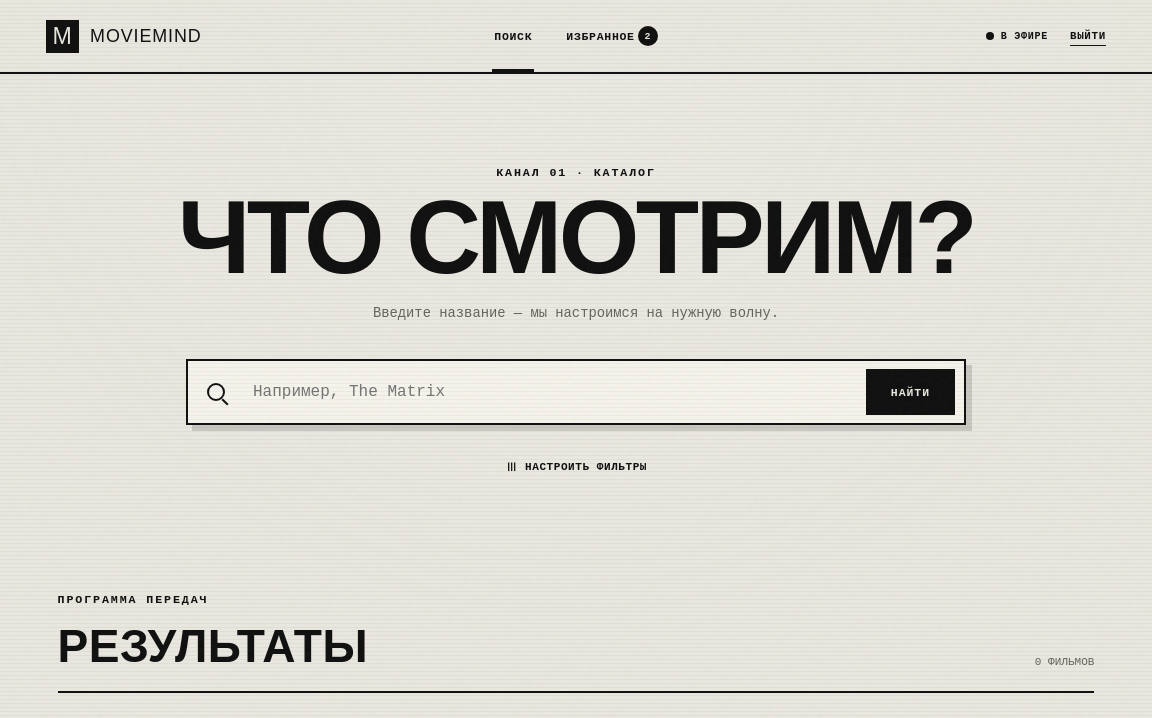
Scenario: MovieMind React application › updates favorite state from a movie card
Expected: the heading "Что смотрим?" is shown, [178,192,974,283]
In the search field named "Название фильма": point(554, 392) [243,361,866,423], type "matrix"
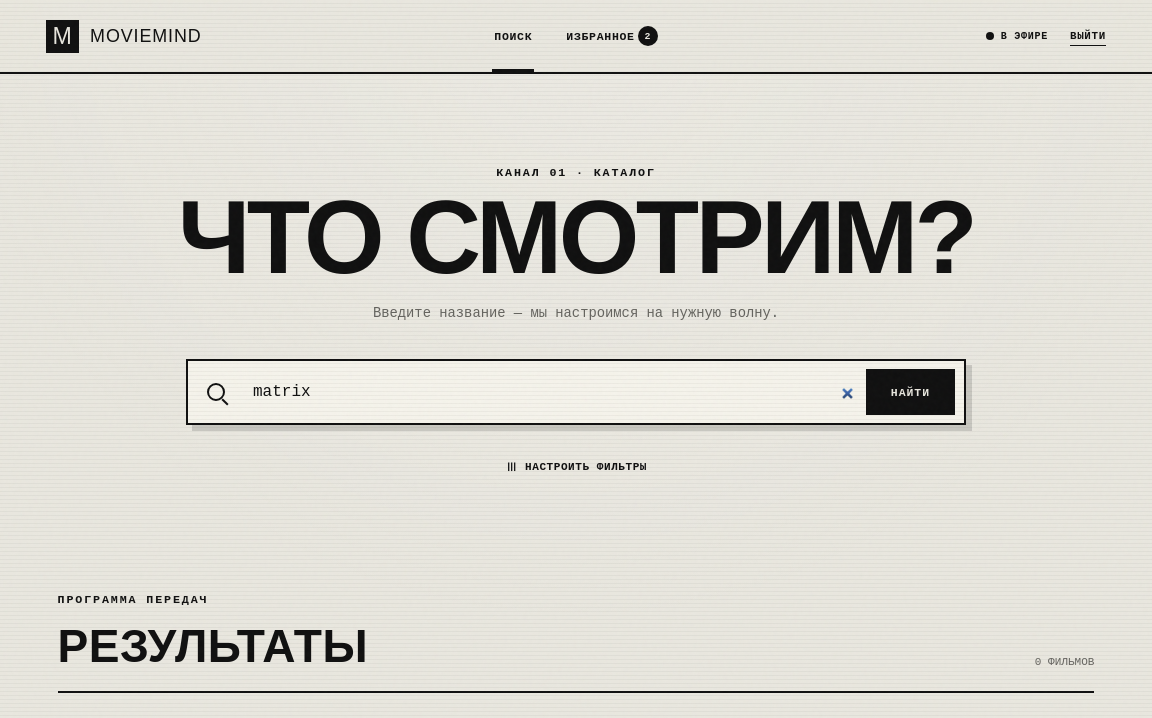
Click the button "Найти": point(910, 392) [866,369,955,415]
(page scrolled)
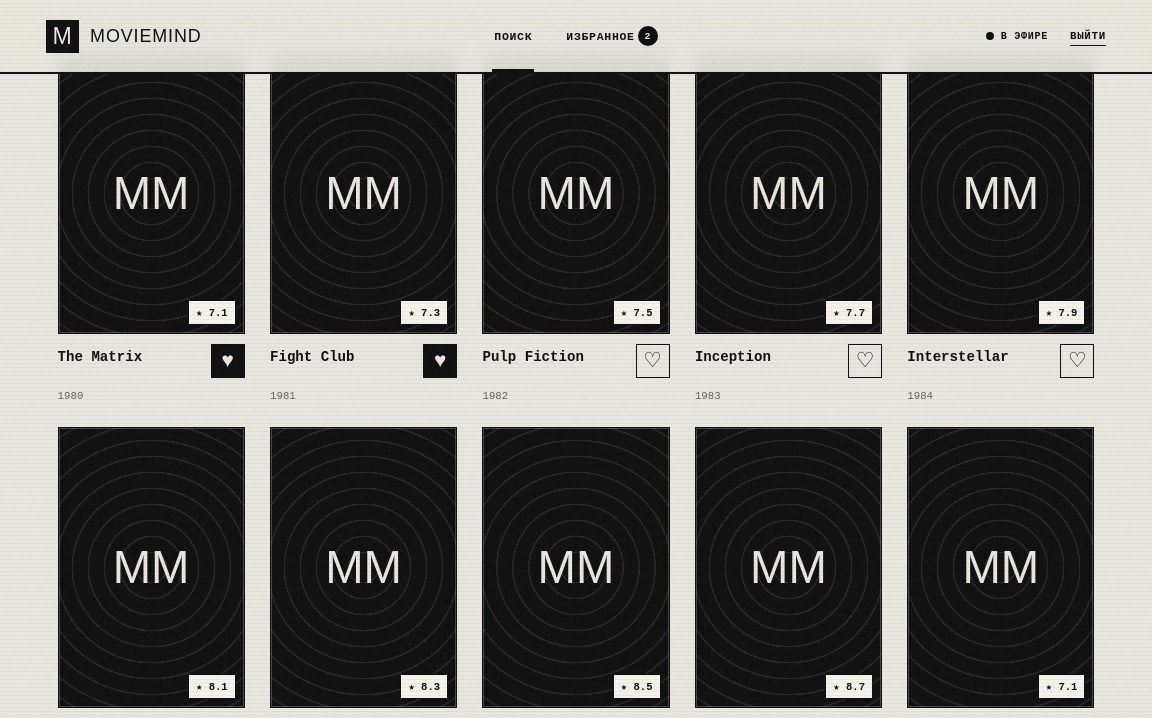
Now the element named "Подробнее о фильме «The Matrix»" is shown, box [58,53,245,402]
Click the button named "Удалить из избранного": point(228, 361) [211,344,245,378]
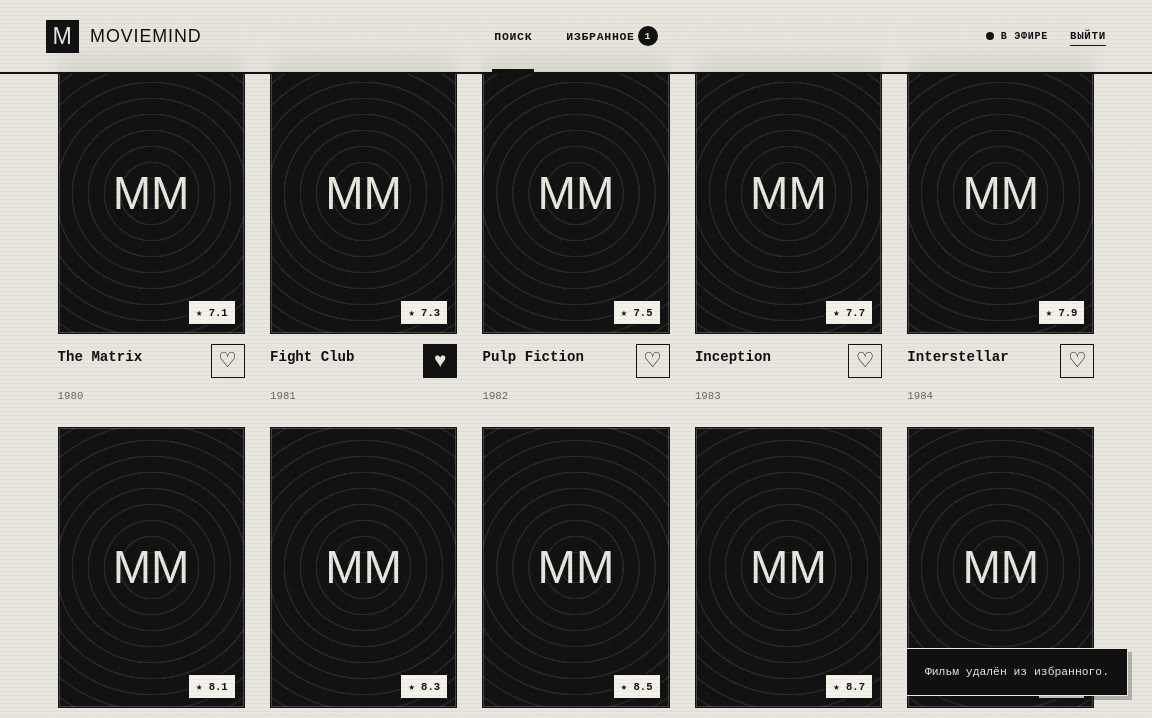
Now the button named "Добавить в избранное" is shown, box [211,344,245,378]
